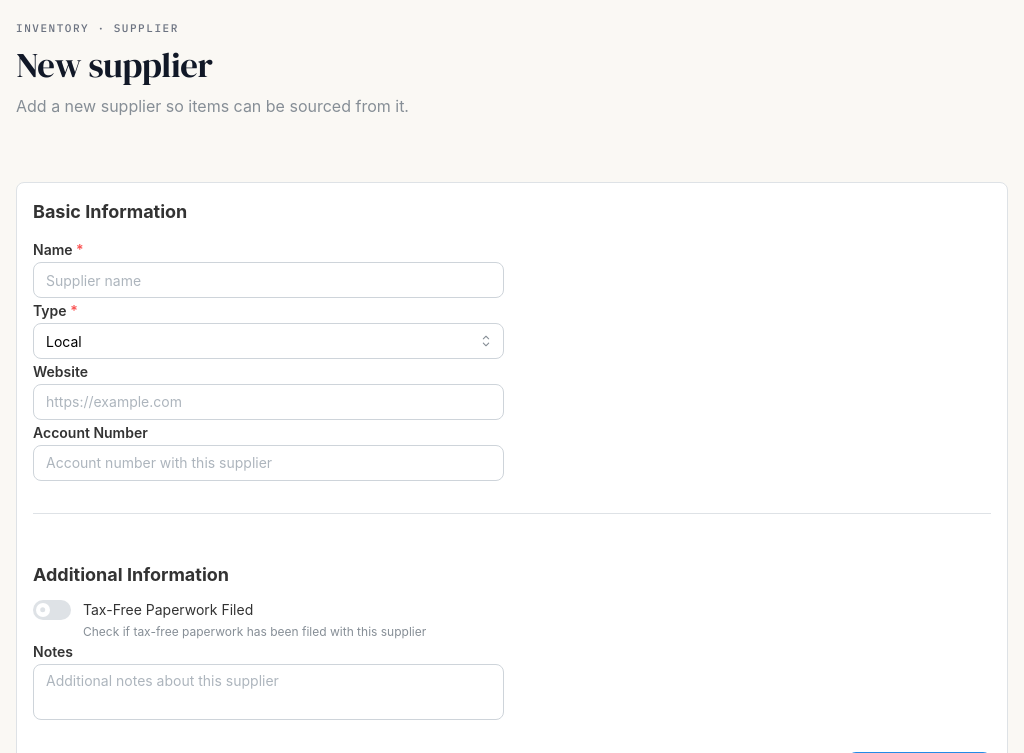
Scenario: SupplierFormPage — empty Type select › a member who clears the required Type sees "Supplier type is required"
This screenshot has width=1024, height=753.
Step 1. Type "Acme" into the field with placeholder "Supplier name" → (268, 280), box [33, 262, 504, 298]
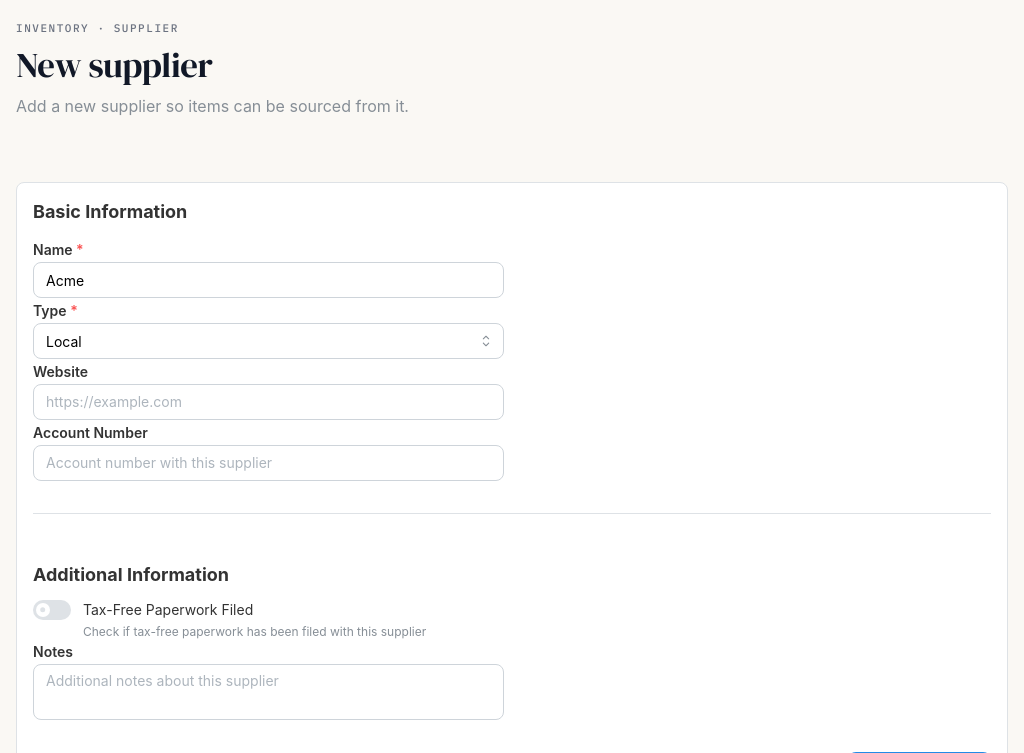
Step 2. Click the dropdown with placeholder "Select supplier type" → (268, 341), box [33, 323, 504, 359]
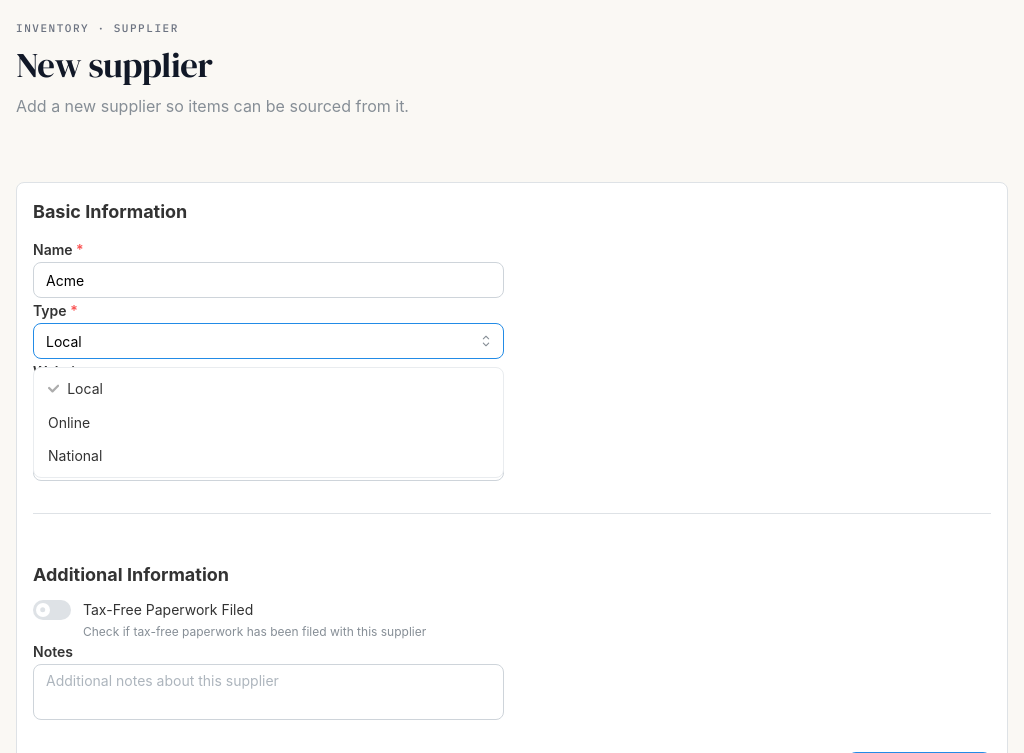
Step 3. Click the option "Local" → (75, 389), box [48, 380, 103, 397]
(page scrolled)
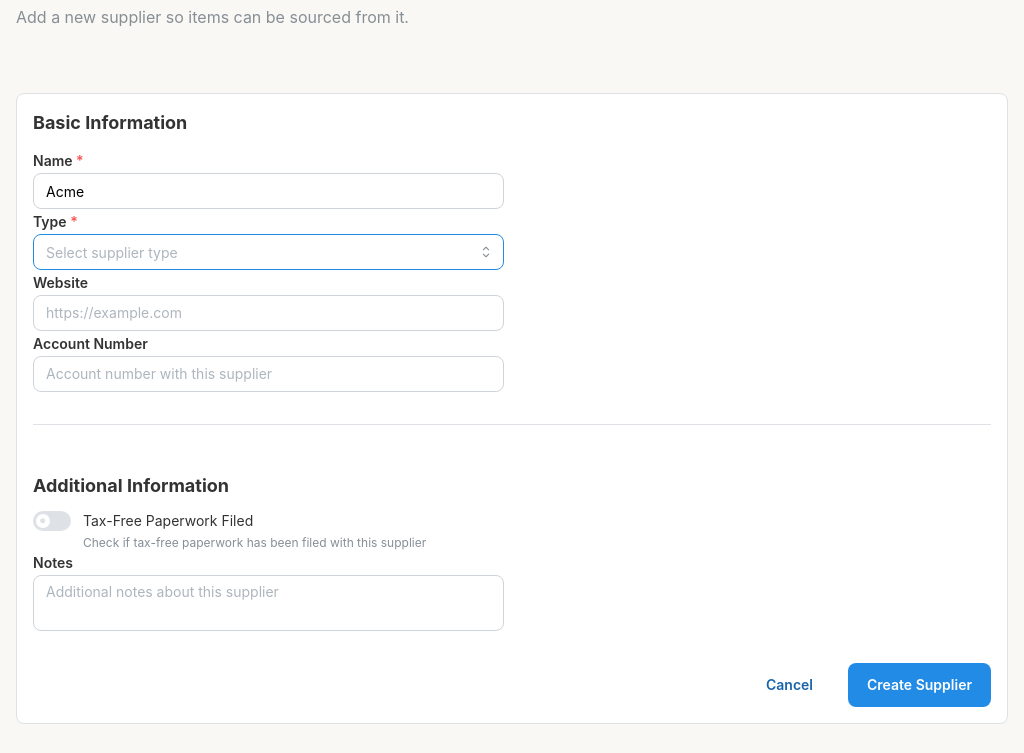
Step 4. Click the button "Create Supplier" → (920, 685), box [848, 663, 991, 707]
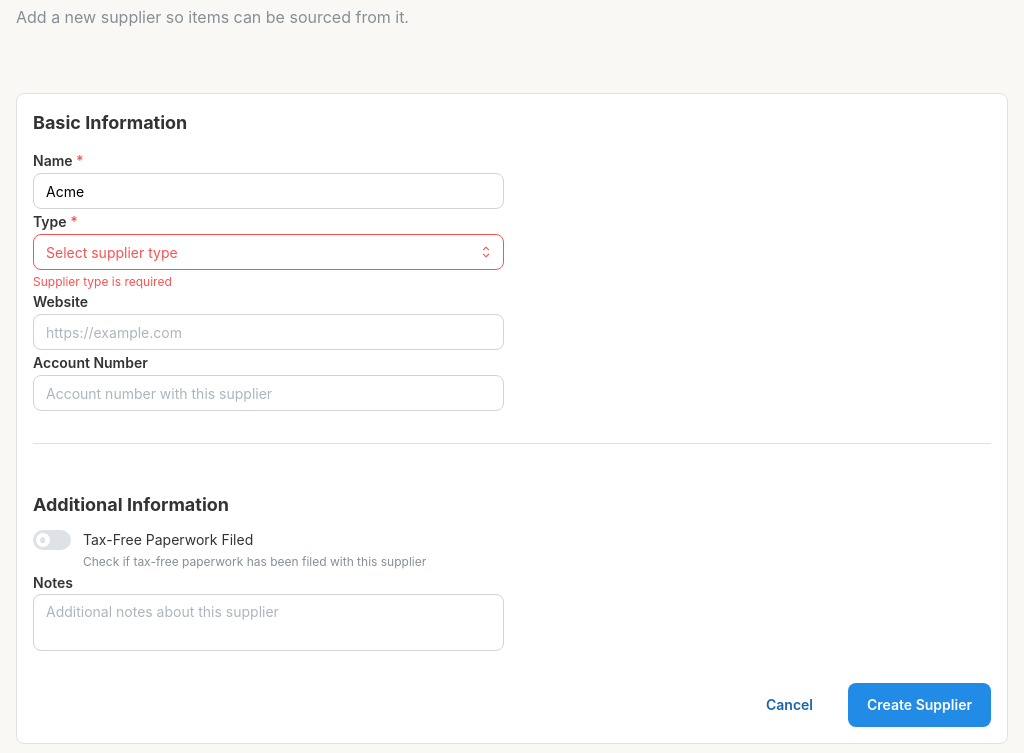
Expected: the text "Supplier type is required" is shown, [33, 274, 172, 289]
